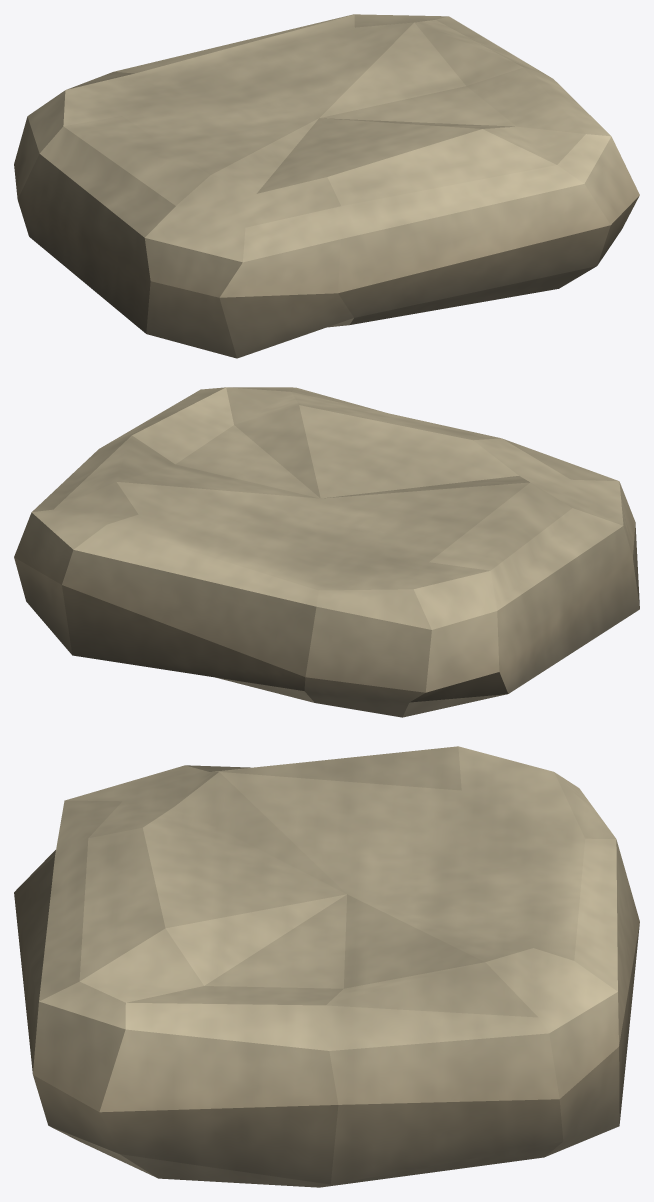
Rendered from lane_stone.glb.
The picture shows the model from 3 angles, top to bottom: view 1: azimuth 30°, elevation 25°; view 2: azimuth 150°, elevation 25°; view 3: azimuth 270°, elevation 25°; orthographic projection. The views are drawn at different scales.
Parts seen in each view (by area): view 1: LaneStone; view 2: LaneStone; view 3: LaneStone.
Part boxes in pixels (x1,y1,x2,y2): LaneStone: [14, 14, 639, 358]; LaneStone: [14, 387, 639, 717]; LaneStone: [14, 746, 639, 1187].
Bounding box in the file's own units: 0.5192 × 0.1571 × 0.4505.
Materials: 1 (1 with a texture image).
